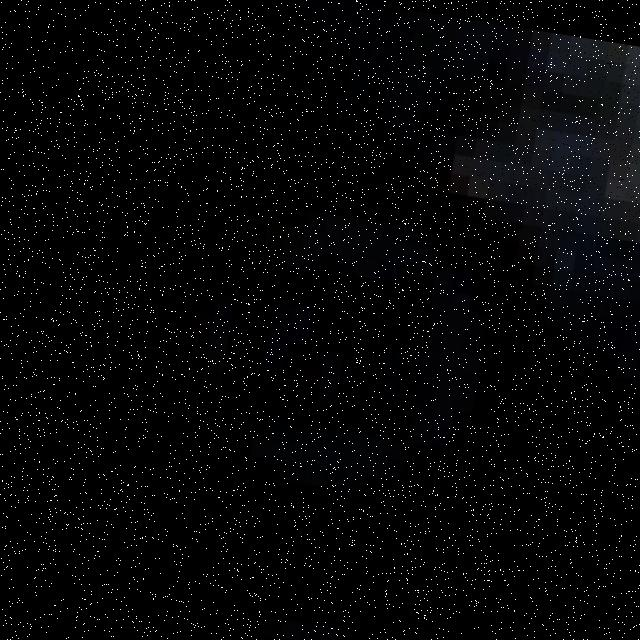Ograniczenie predkosci do 120: (124, 144, 554, 560)
